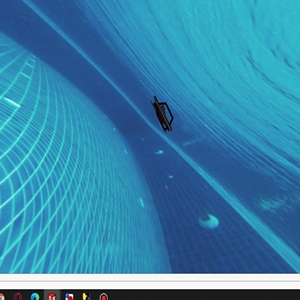submarine: (151, 97, 174, 133)
